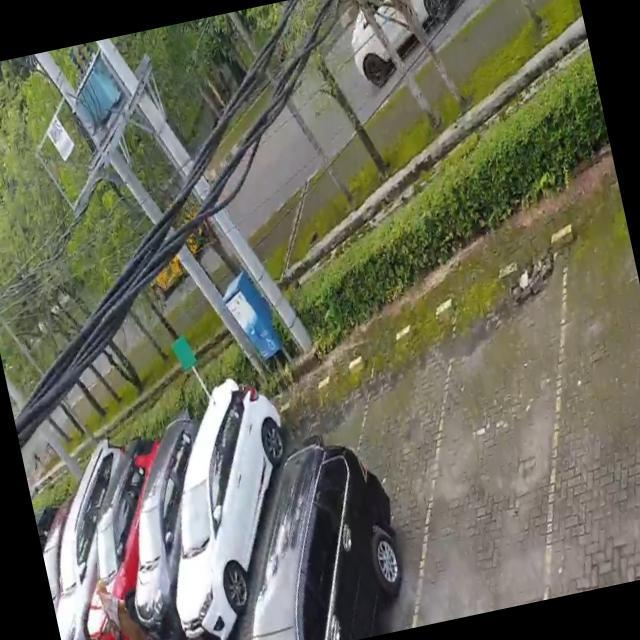empty: (391, 262, 606, 618)
occupied: (306, 336, 462, 638)
